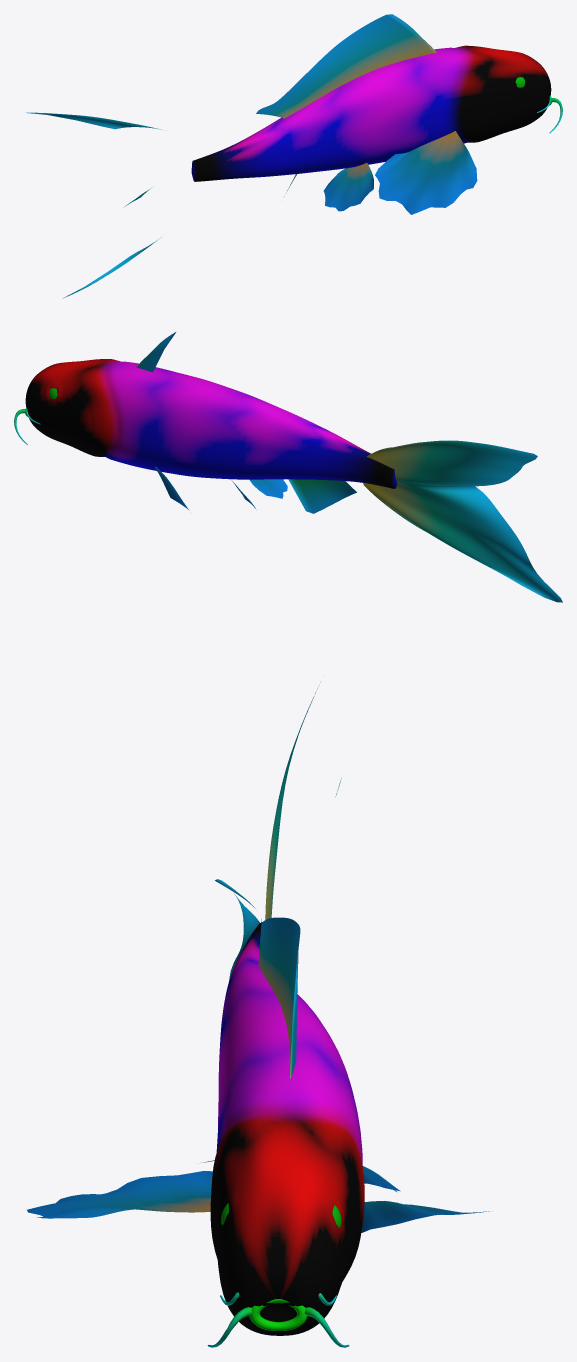
Rendered from koi277.glb.
3 renders of one model, top to bottom at view 1: azimuth 30°, elevation 25°; view 2: azimuth 150°, elevation 25°; view 3: azimuth 270°, elevation 25°, orthographic. The views are drawn at different scales.
Parts seen in each view (by area): view 1: k277-koi; view 2: k277-koi; view 3: k277-koi.
Part boxes in pixels (x1,y1,x2,y2): k277-koi: (26, 14, 562, 298); k277-koi: (14, 332, 562, 602); k277-koi: (27, 686, 492, 1347).
Bounding box in the file's own units: 8.49 × 2.97 × 3.7.
